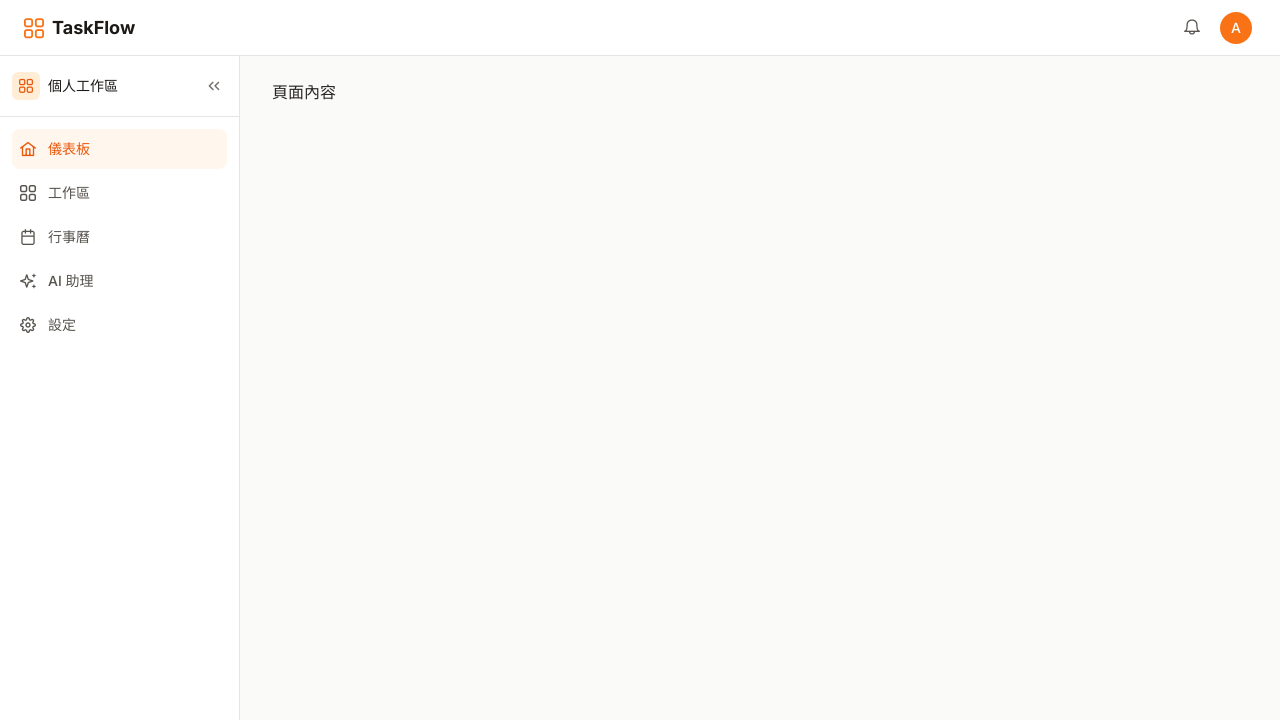
Test: AppLayout › 已登入：Avatar 顯示使用者名稱首字、選單展開時顯示完整資訊
Click the button with test id "user-menu-toggle" at (1236, 28), box [1216,8,1256,48]
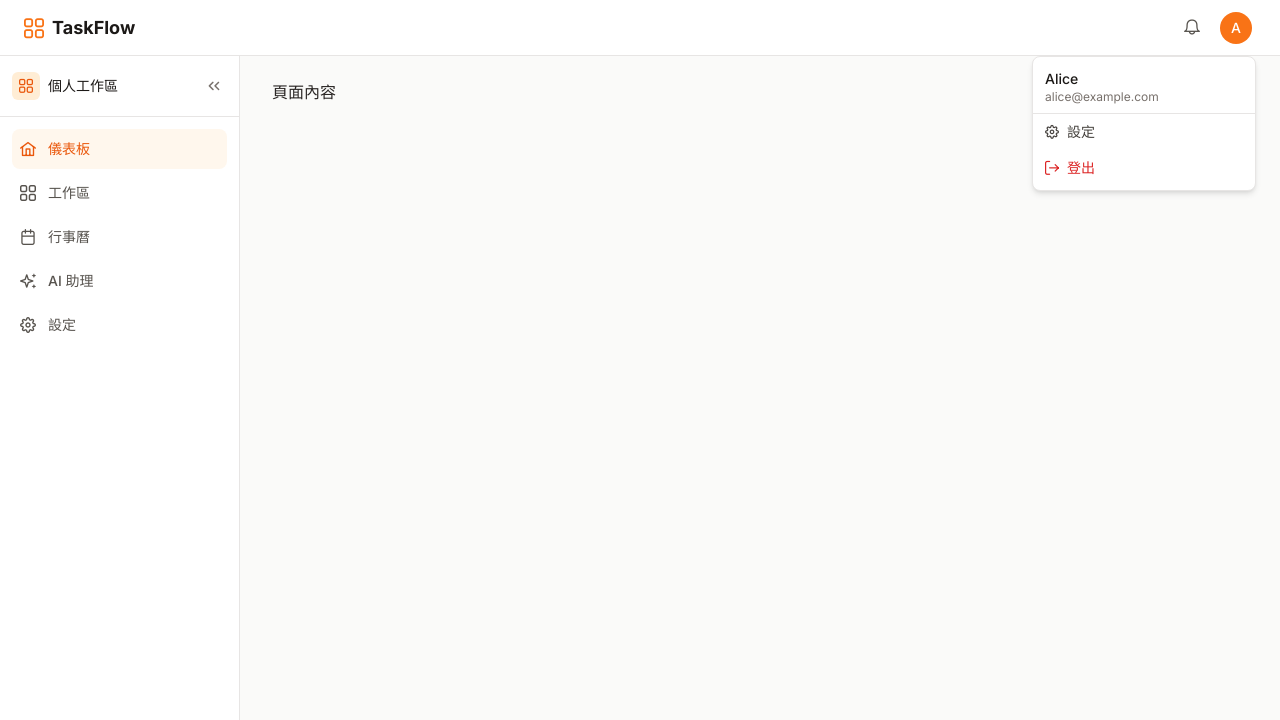
Check: the text "Alice" is shown, box [1045,70,1078,86]
Check: the text "alice@example.com" is shown, box [1045,88,1159,104]
